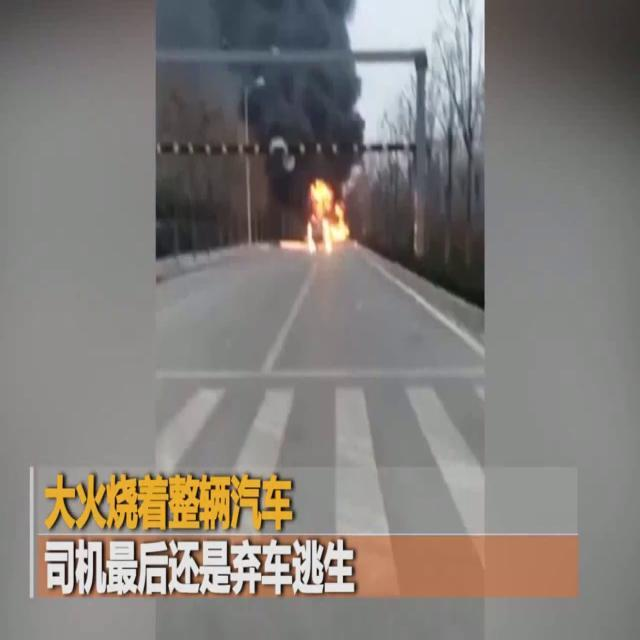Fire: (304, 176, 351, 253)
